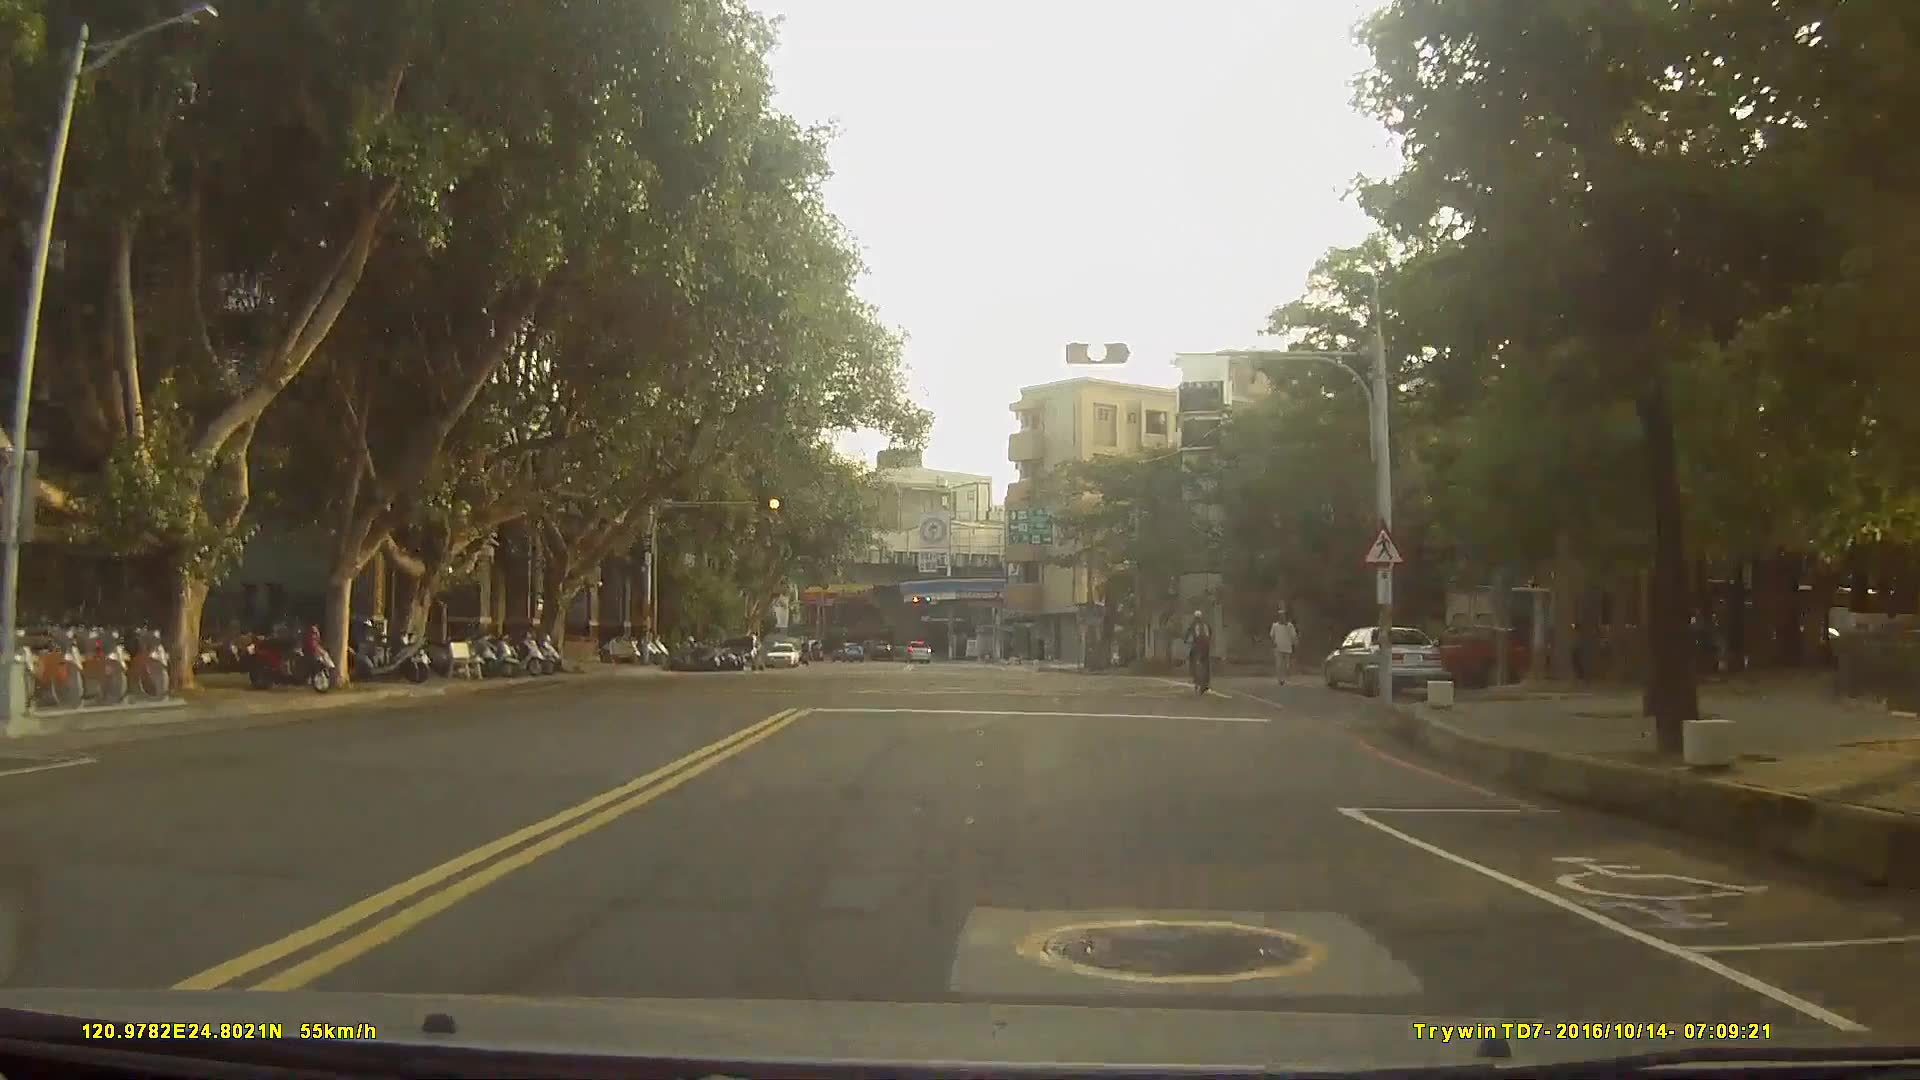pedestrian: (1268, 605, 1301, 695)
rider: (1185, 609, 1216, 692)
vehicle: (1323, 625, 1448, 697), (1408, 623, 1526, 689), (717, 631, 764, 671), (764, 640, 798, 668), (897, 639, 930, 663)
